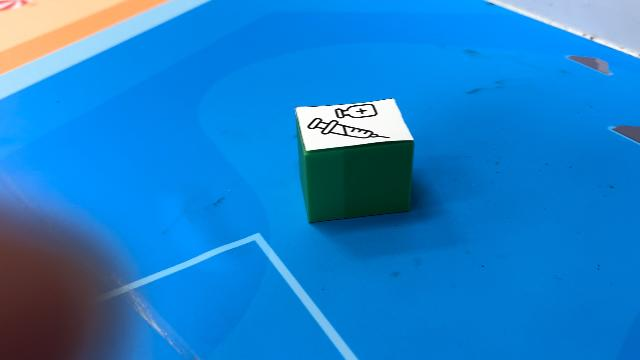syringe: (294, 97, 414, 223)
